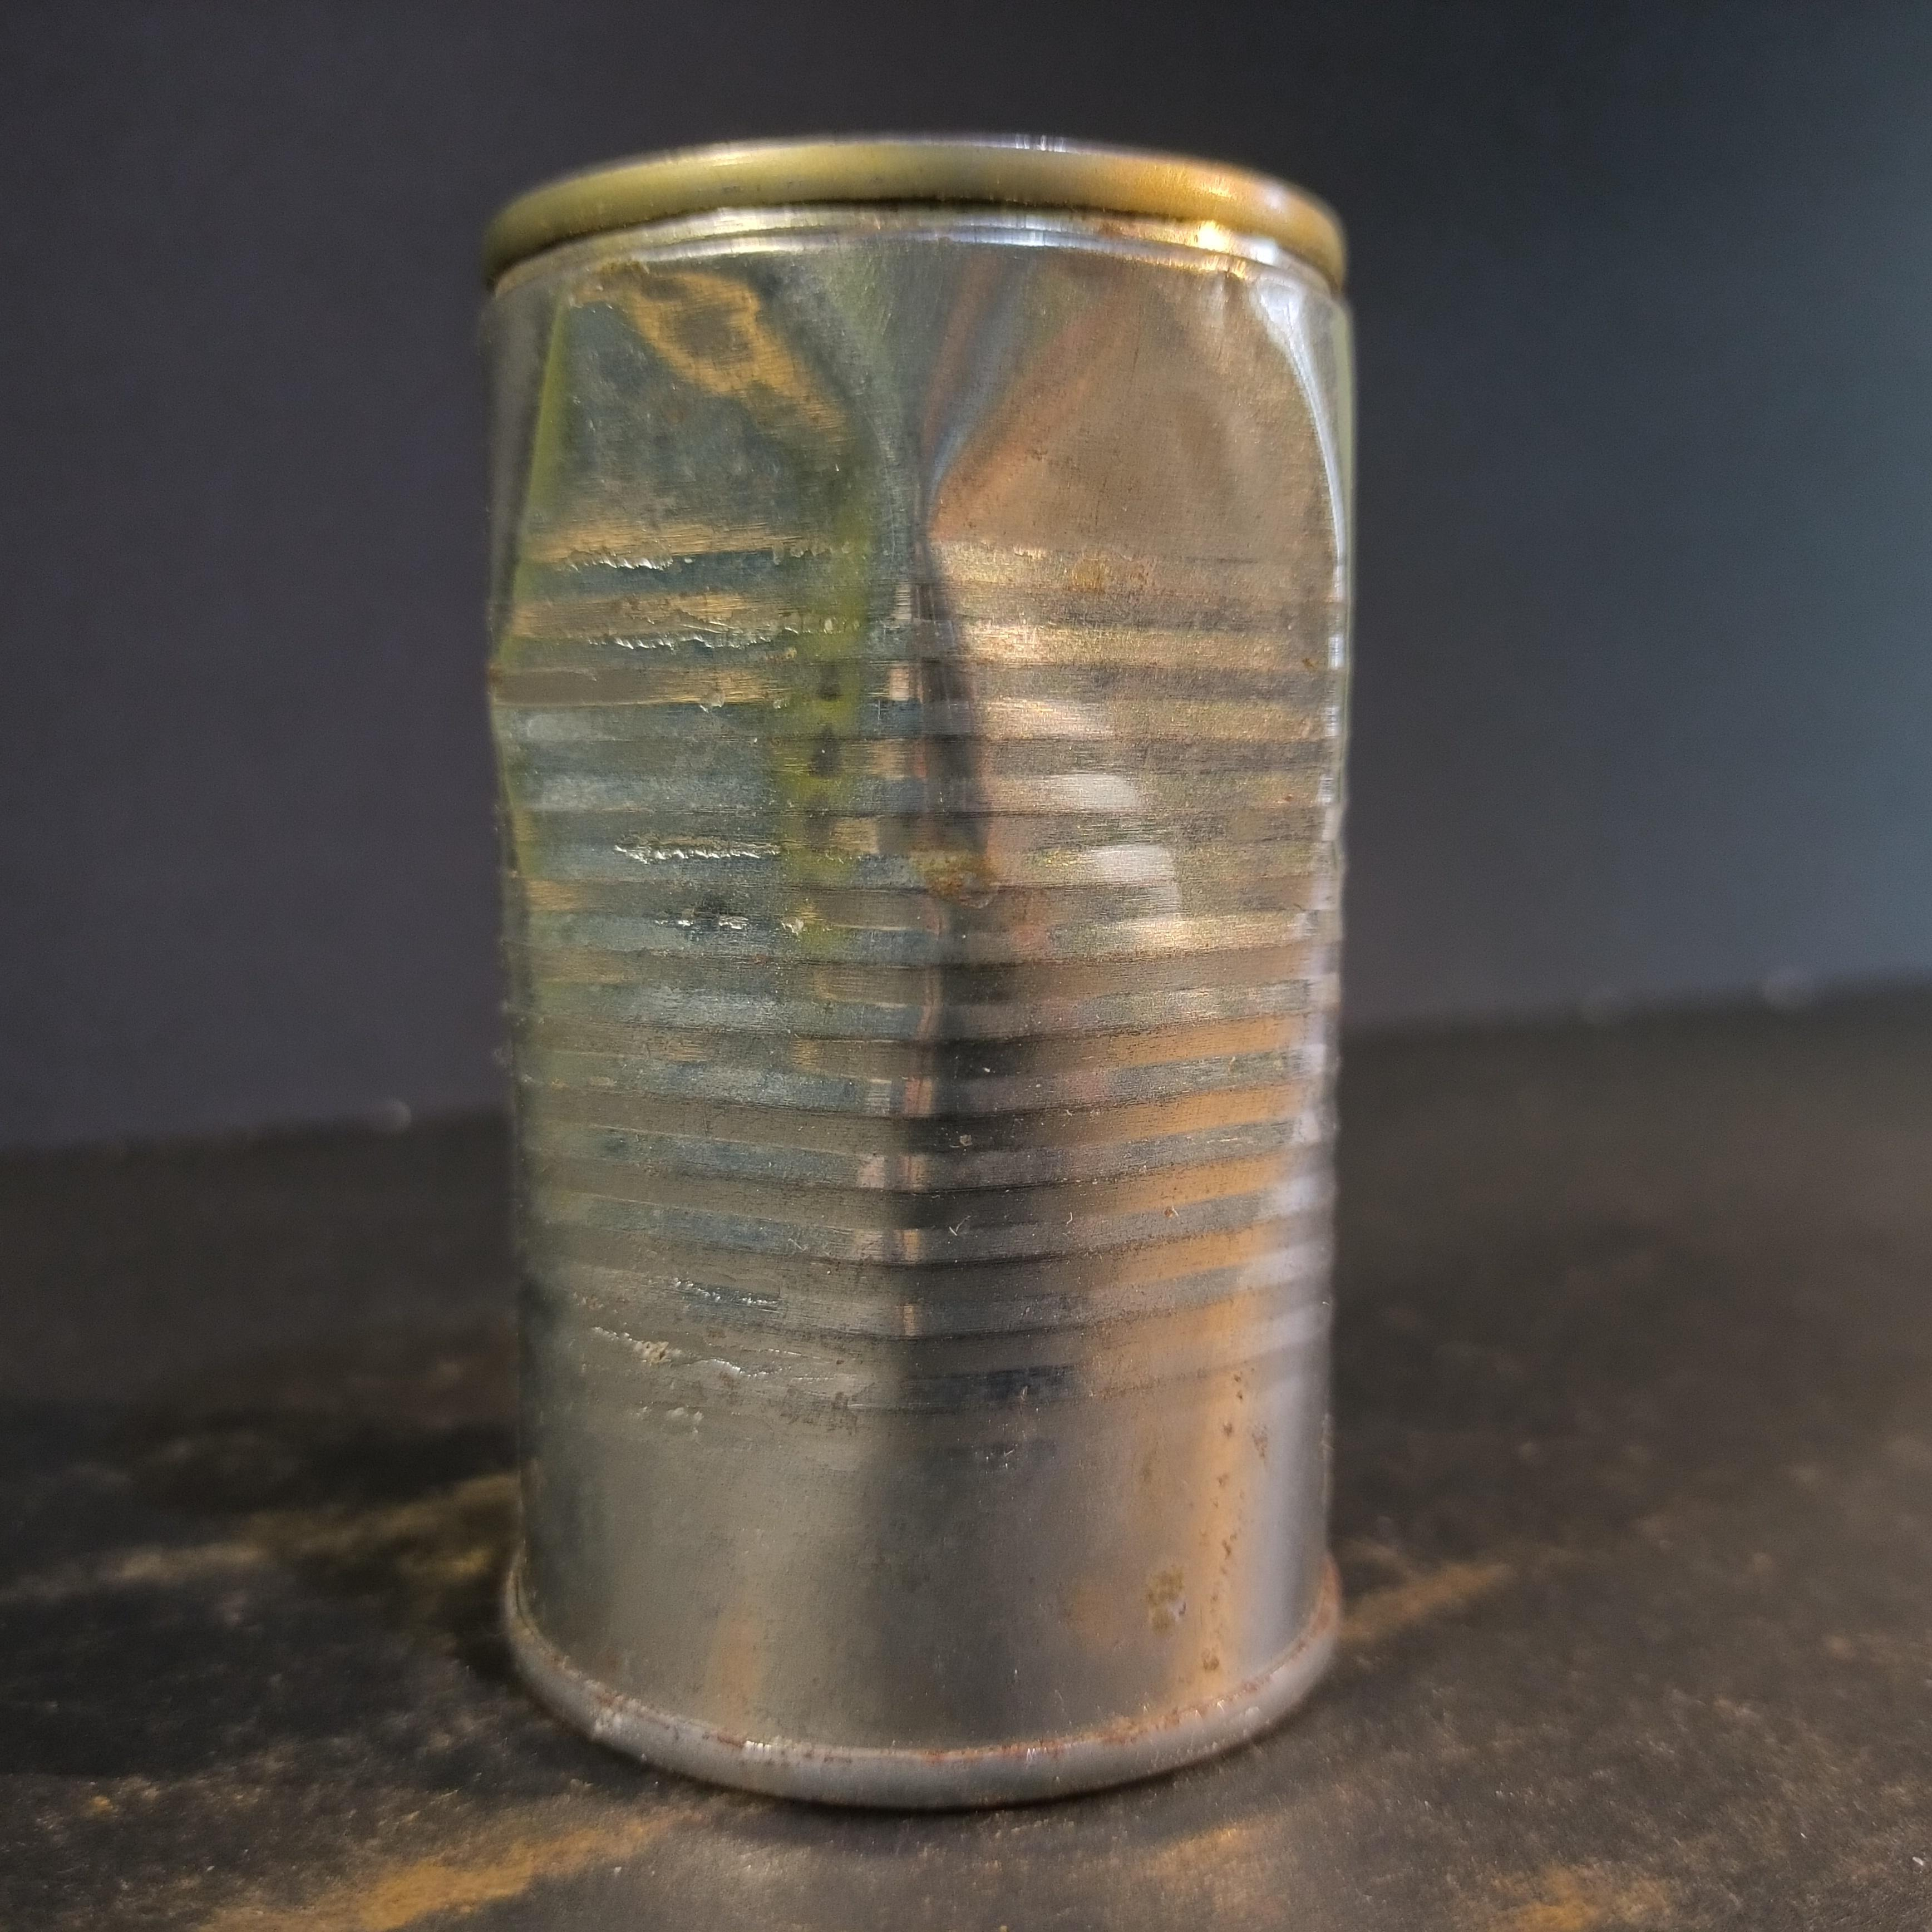Dented: (448, 101, 1408, 1833)
